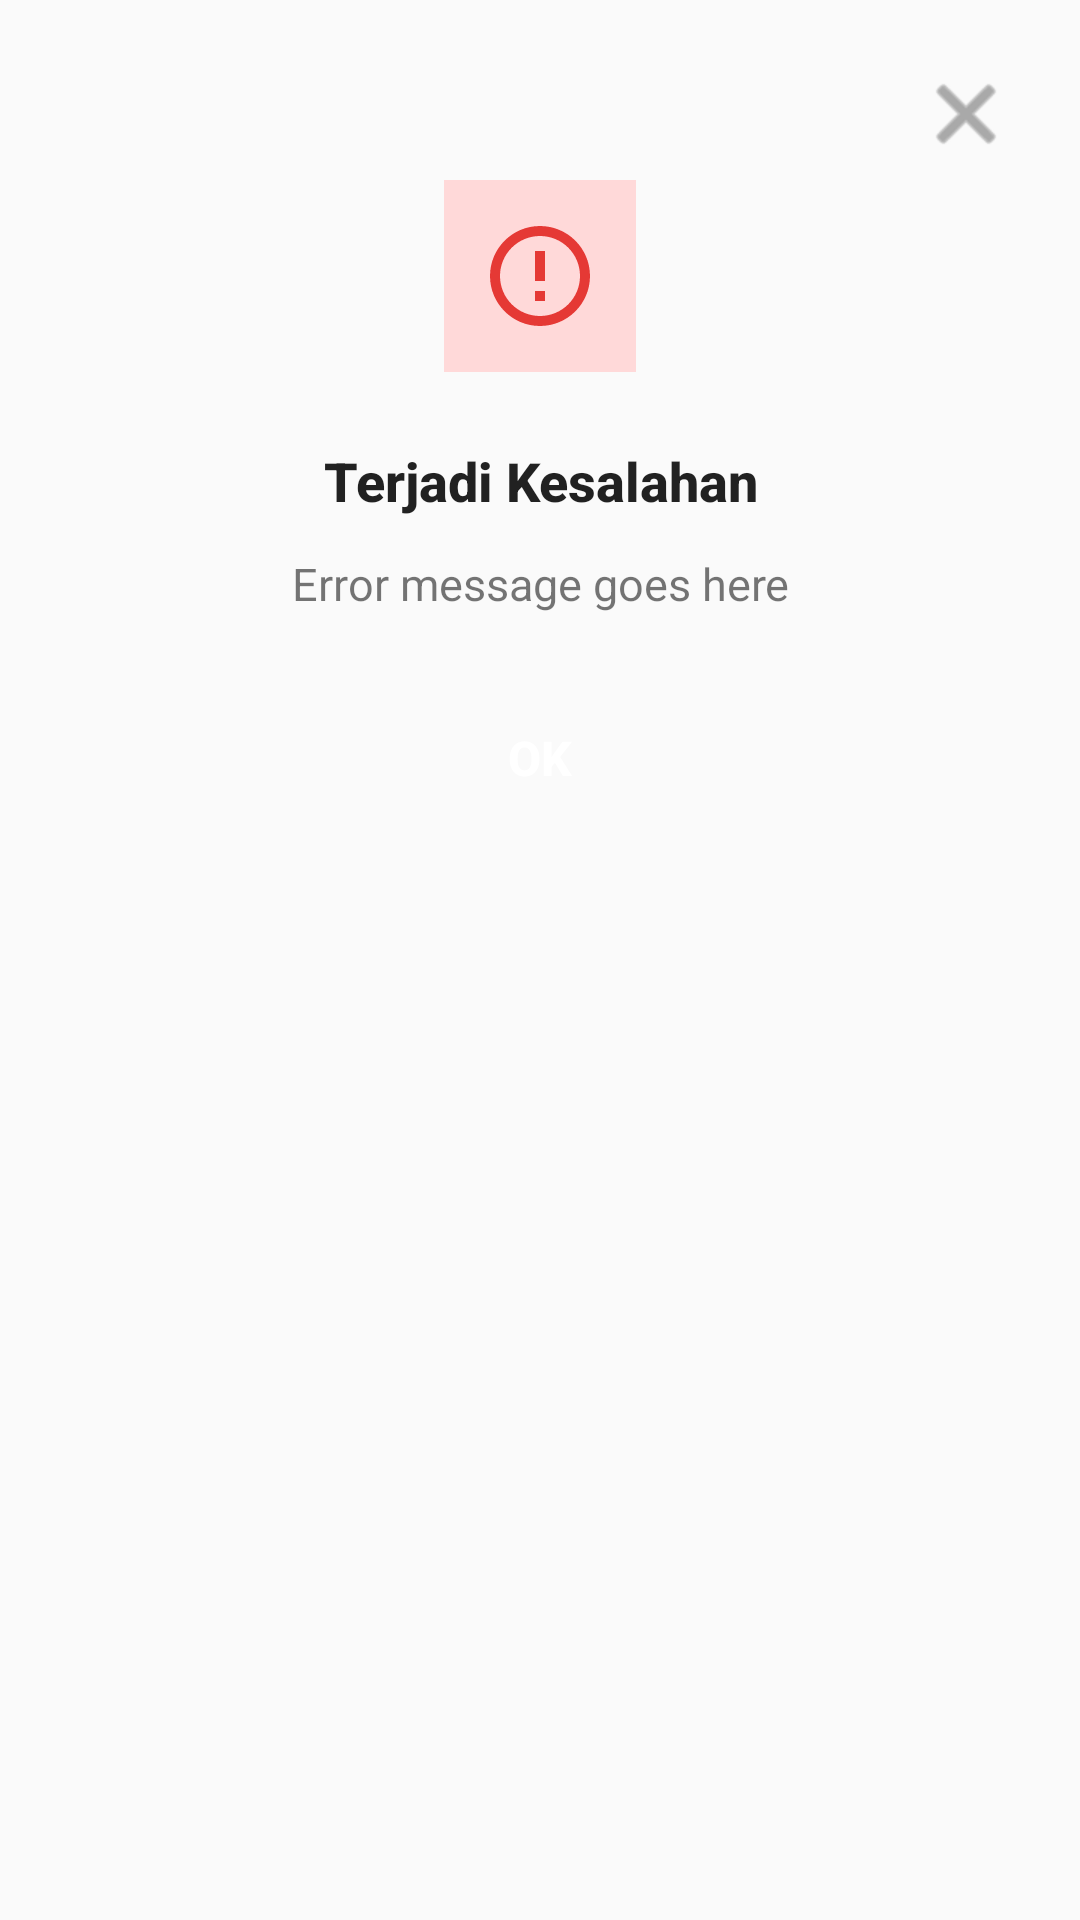

Icons on this 1080px x 1920px Android screen, each with its box as (x1, y1, x2, y2):
Close dialog: (936, 84, 996, 144)
Error icon: (490, 226, 590, 326)
